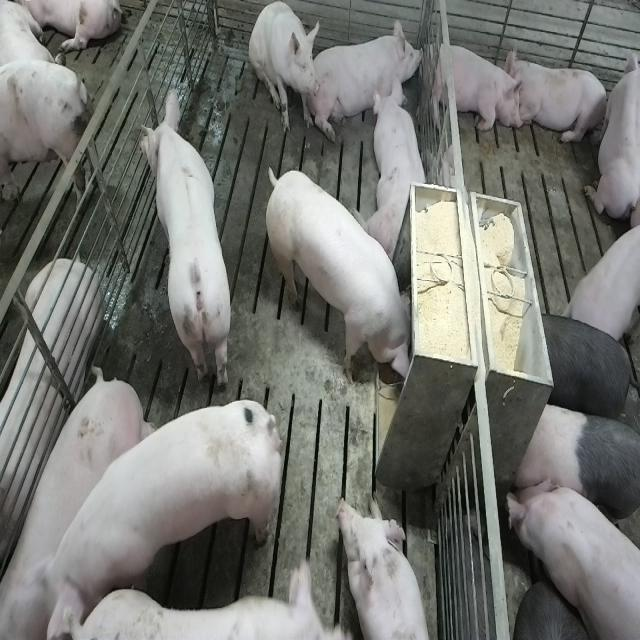Feeding: (270, 166, 422, 391)
Lateral_lying: (0, 256, 103, 632)
Sitting: (249, 2, 320, 137)
Standing: (37, 388, 288, 630), (6, 364, 161, 639), (137, 81, 234, 386), (504, 474, 638, 640), (510, 400, 638, 558), (0, 60, 98, 226), (538, 308, 638, 430), (563, 216, 640, 350)
Sternal_lying: (338, 492, 437, 638), (314, 13, 425, 137), (367, 78, 430, 258), (425, 36, 524, 138), (509, 50, 610, 148), (584, 41, 637, 224)
